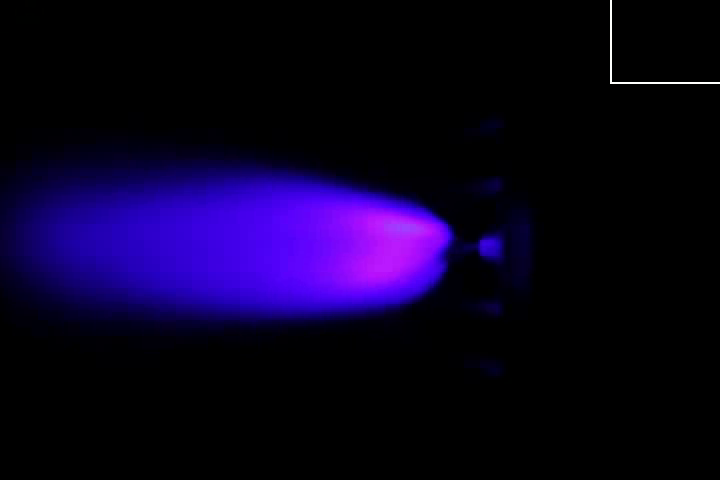burner cap: (480, 231, 504, 261)
unstable: (300, 171, 479, 317)
